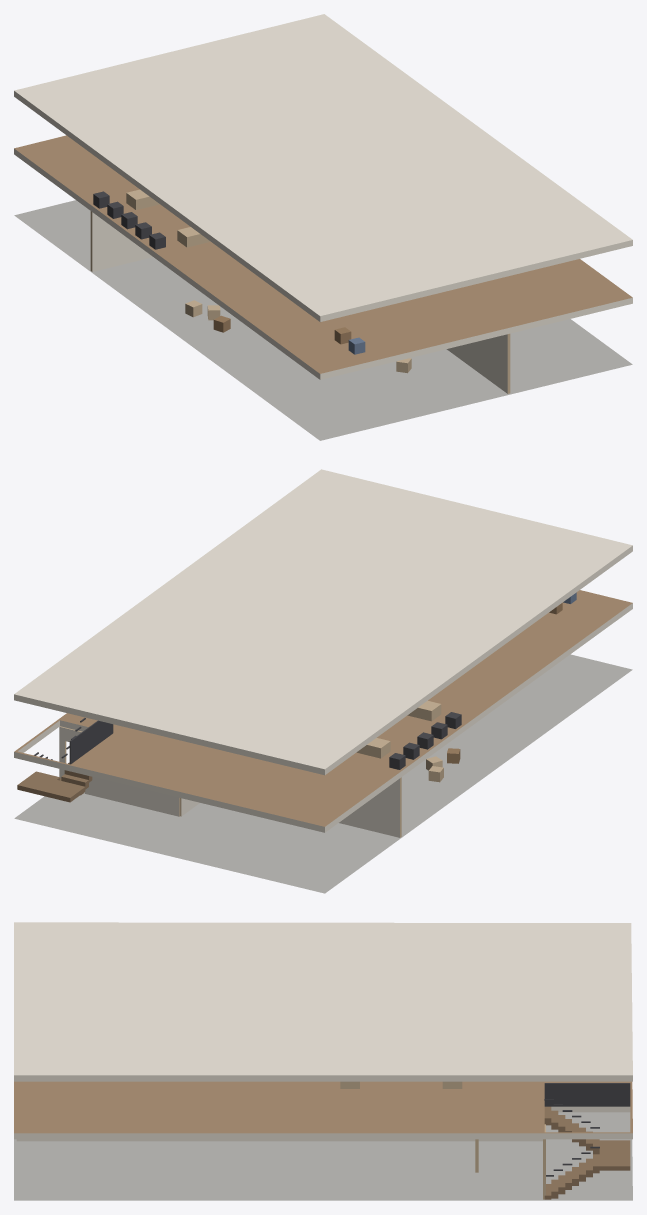
The model's file is interior.glb.
3 views of the same model, one above another, from view 1: azimuth 30°, elevation 25°; view 2: azimuth 150°, elevation 25°; view 3: azimuth 270°, elevation 25° (orthographic).
Parts seen in each view (by area): view 1: slabs, partitions, coarse-s1, coarse-s0; view 2: slabs, partitions, stair, coarse-s1, coarse-s0; view 3: slabs, stair, partitions.
Boxes of the visible parts, x1=… form: slabs: x1=14, y1=14, x2=632, y2=440; partitions: x1=90, y1=211, x2=510, y2=393; coarse-s1: x1=93, y1=189, x2=365, y2=354; coarse-s0: x1=185, y1=300, x2=411, y2=373; slabs: x1=14, y1=469, x2=632, y2=893; partitions: x1=59, y1=726, x2=401, y2=837; stair: x1=17, y1=718, x2=113, y2=802; coarse-s1: x1=356, y1=592, x2=576, y2=769; coarse-s0: x1=426, y1=748, x2=460, y2=782; slabs: x1=14, y1=922, x2=632, y2=1200; stair: x1=544, y1=1083, x2=630, y2=1199; partitions: x1=16, y1=1124, x2=545, y2=1199.
Size of the model in its own units: 14.17 by 5.42 by 24.21.
